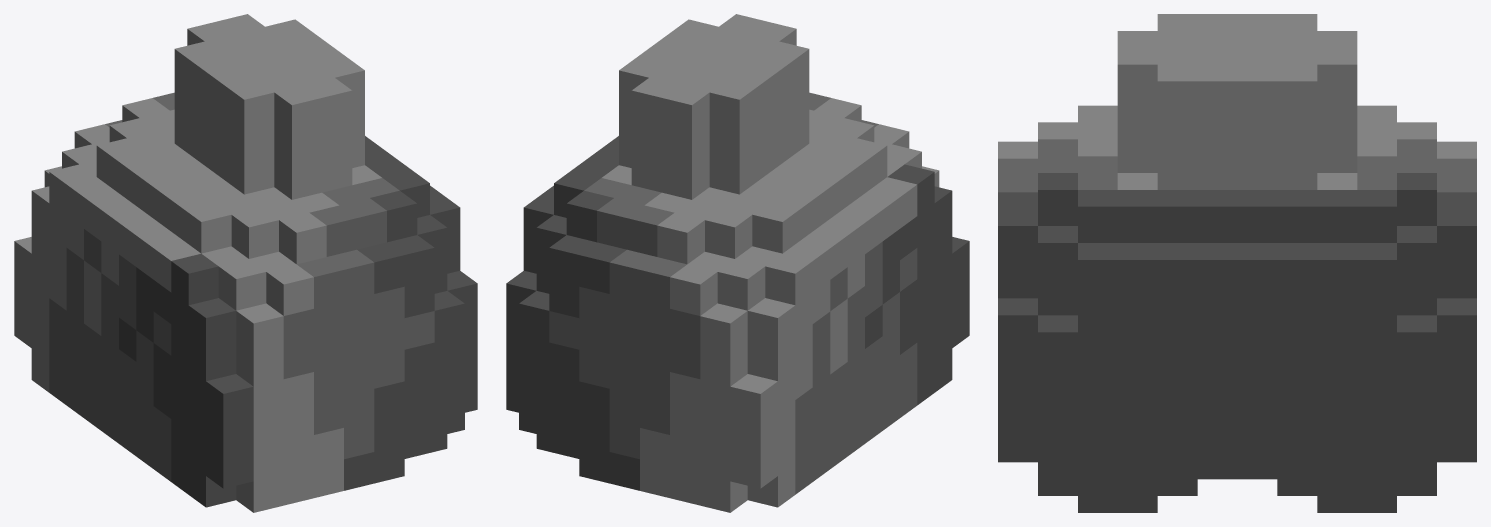
The model's file is TerellButt.obj.
3 views of the same model, side by side, from view 1: azimuth 30°, elevation 25°; view 2: azimuth 150°, elevation 25°; view 3: azimuth 270°, elevation 25° (orthographic). The views are drawn at different scales.
Bounding box in the file's own units: 0.9 × 1.2 × 1.2.
Materials: 1 (1 with a texture image).
